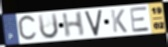C: (17, 14, 39, 44)
E: (129, 5, 151, 33)
H: (61, 11, 86, 39)
K: (110, 8, 129, 34)
U: (37, 12, 60, 41)
V: (84, 9, 104, 37)
